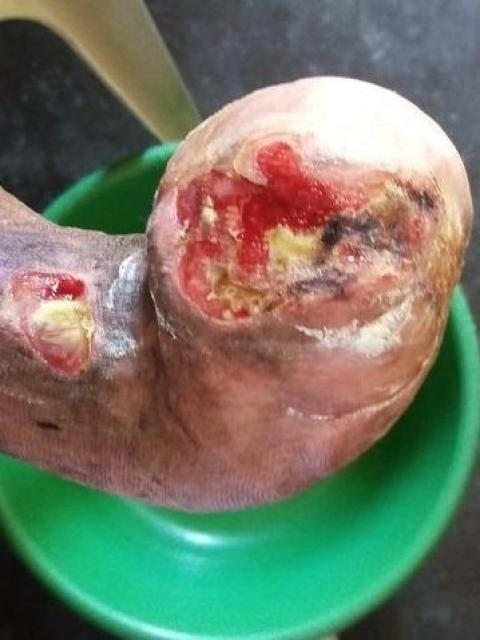wound: (175, 141, 456, 329), (8, 269, 106, 374)
